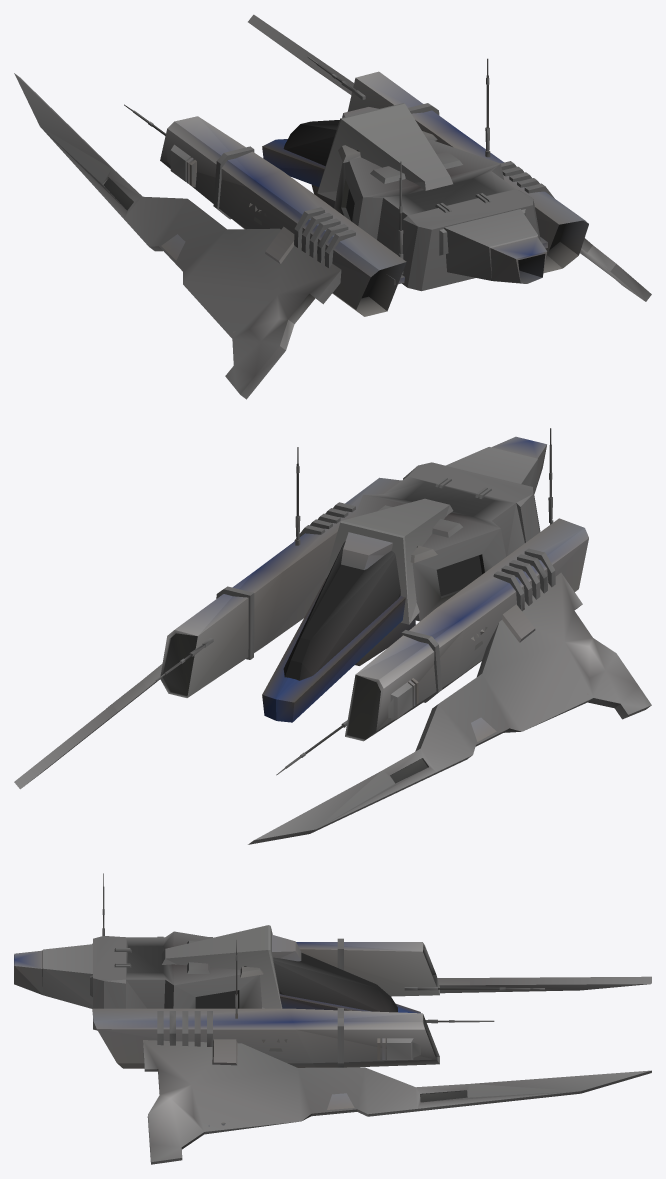
Rendered from striker.glb.
The picture shows the model from 3 angles, top to bottom: view 1: azimuth 30°, elevation 25°; view 2: azimuth 150°, elevation 25°; view 3: azimuth 270°, elevation 25°; orthographic projection. The views are drawn at different scales.
Visible parts, largest first — view 1: Striker; view 2: Striker; view 3: Striker.
Boxes of the visible parts, <box> form: Striker: <box>14,14,651,399</box>; Striker: <box>14,428,651,844</box>; Striker: <box>14,873,651,1164</box>.
Size of the model in its own units: 0.5974 by 0.3186 by 1.
